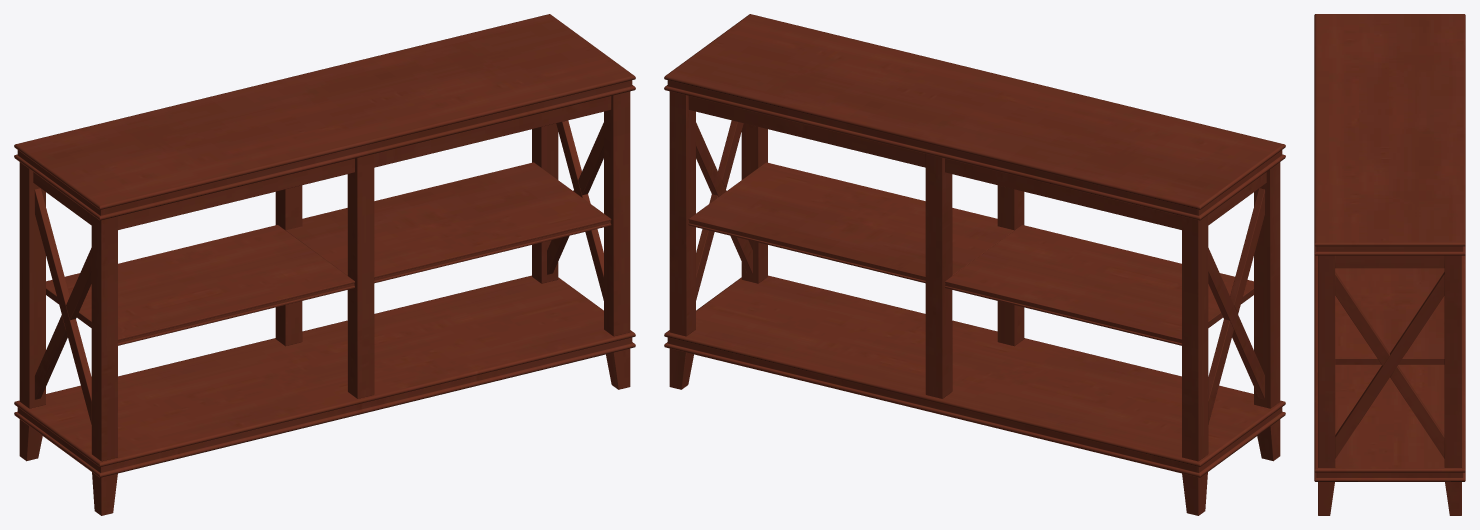
Rendered from abo-B07DBFQFF2.glb.
The picture shows the model from 3 angles, left to right: view 1: azimuth 30°, elevation 25°; view 2: azimuth 150°, elevation 25°; view 3: azimuth 270°, elevation 25°; orthographic projection. The views are drawn at different scales.
Bounding box in the file's own units: 1.37 × 0.762 × 0.381.
Materials: 1 (1 with a texture image).
